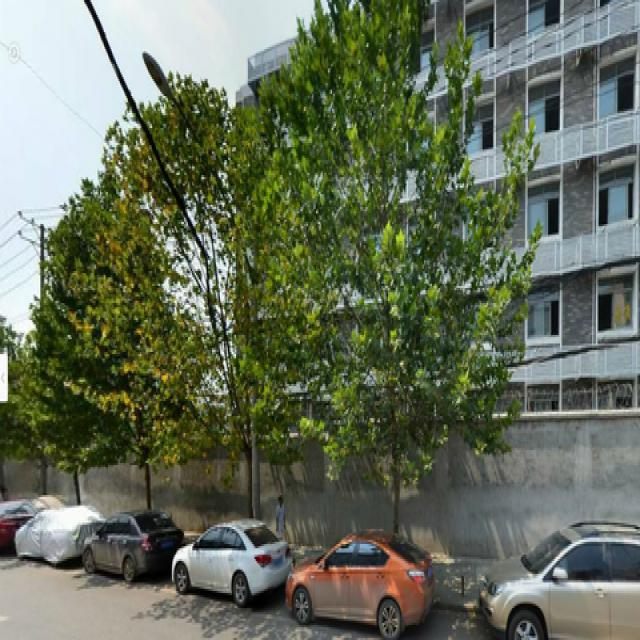meta: (304, 24, 475, 546)
